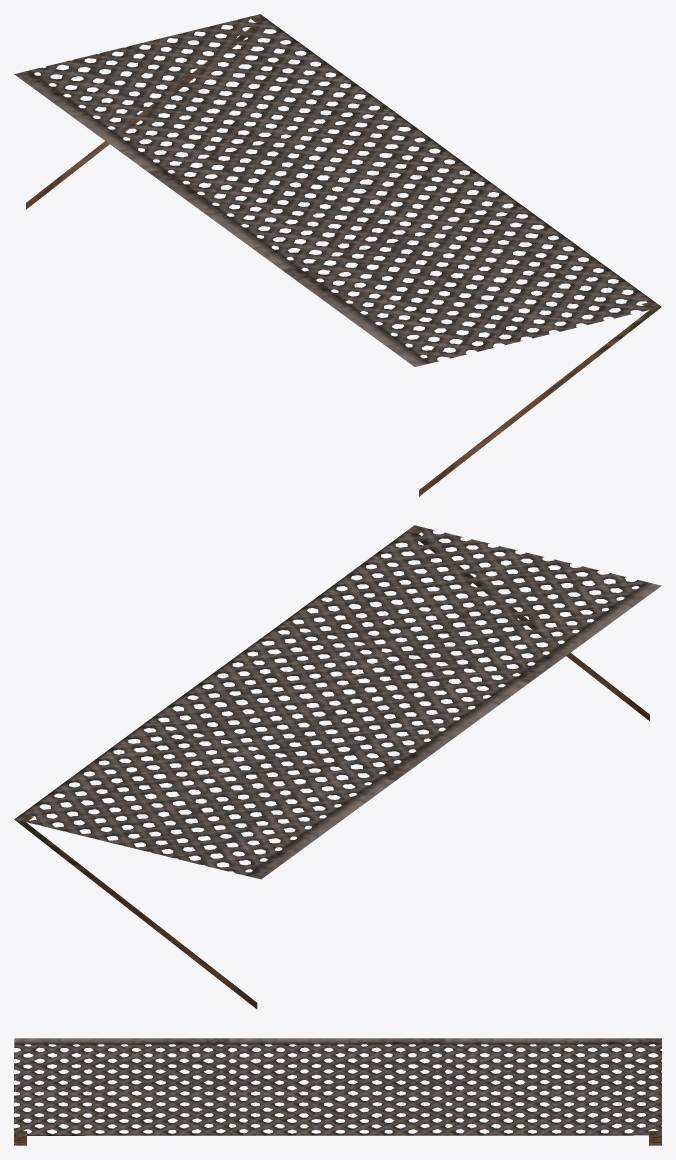
The model's file is M7Z4_Jump_Balcony.glb.
3 views of the same model, one above another, from view 1: azimuth 30°, elevation 25°; view 2: azimuth 150°, elevation 25°; view 3: azimuth 270°, elevation 25° (orthographic). The views are drawn at different scales.
Parts seen in each view (by area): view 1: M7Z4_JUMP_BALCONY; view 2: M7Z4_JUMP_BALCONY; view 3: M7Z4_JUMP_BALCONY.
Part boxes in pixels (x1,y1,x2,y2): M7Z4_JUMP_BALCONY: (14,14,661,496); M7Z4_JUMP_BALCONY: (14,525,661,1009); M7Z4_JUMP_BALCONY: (14,1038,661,1145).
Bounding box in the file's own units: 1.23 × 0.621 × 3.45.
Materials: 2 (2 with a texture image).
